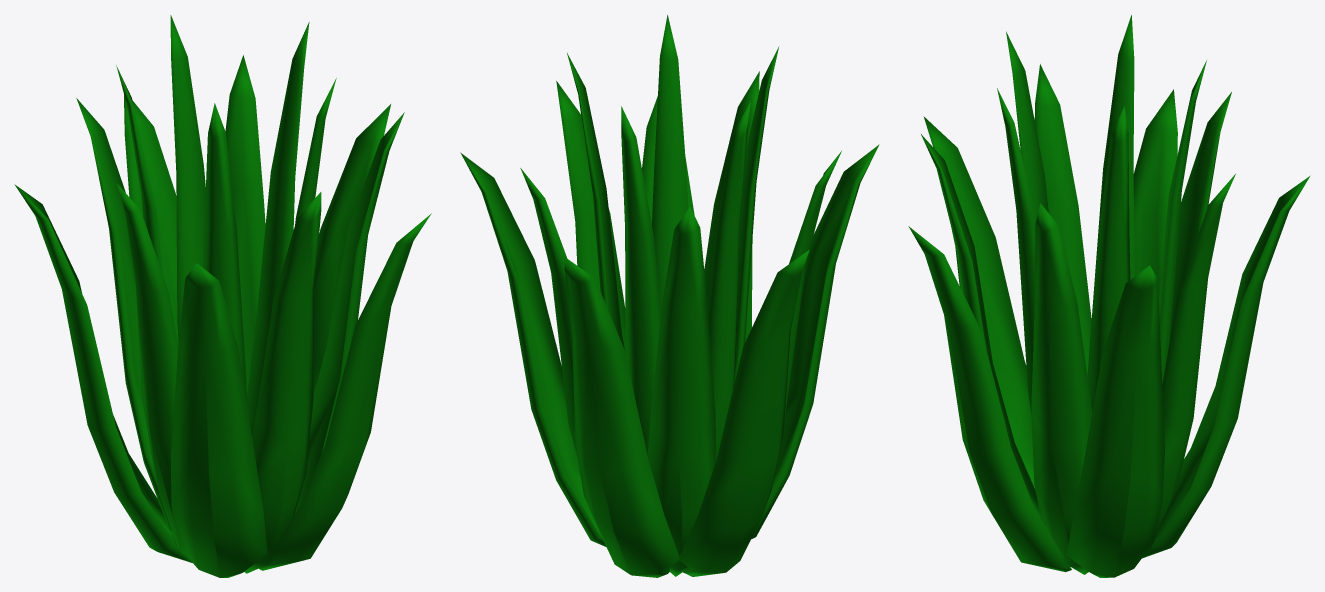
File: SM_Aloe_001_LOD1.fbx
3 renders of one model, left to right at view 1: azimuth 30°, elevation 25°; view 2: azimuth 150°, elevation 25°; view 3: azimuth 270°, elevation 25°, orthographic.
Parts seen in each view (by area): view 1: Aloe; view 2: Aloe; view 3: Aloe.
Boxes of the visible parts, x1,y1,x2,y2 form: Aloe: [14, 15, 431, 577]; Aloe: [460, 15, 879, 577]; Aloe: [908, 15, 1310, 577].
Size of the model in its own units: 60.11 by 80.14 by 58.07.
